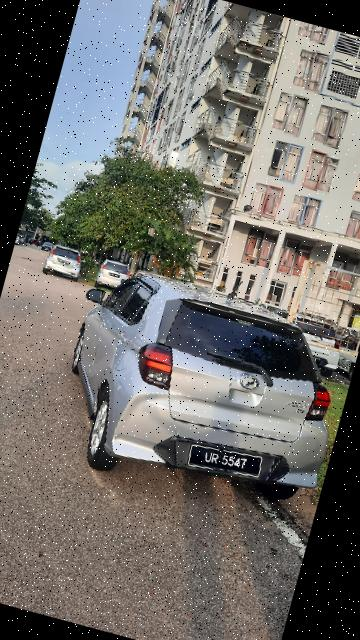License_Plate: (178, 435, 269, 487), (57, 259, 73, 268), (109, 274, 122, 280)
car: (37, 248, 360, 532), (41, 238, 92, 287), (93, 255, 137, 298)
